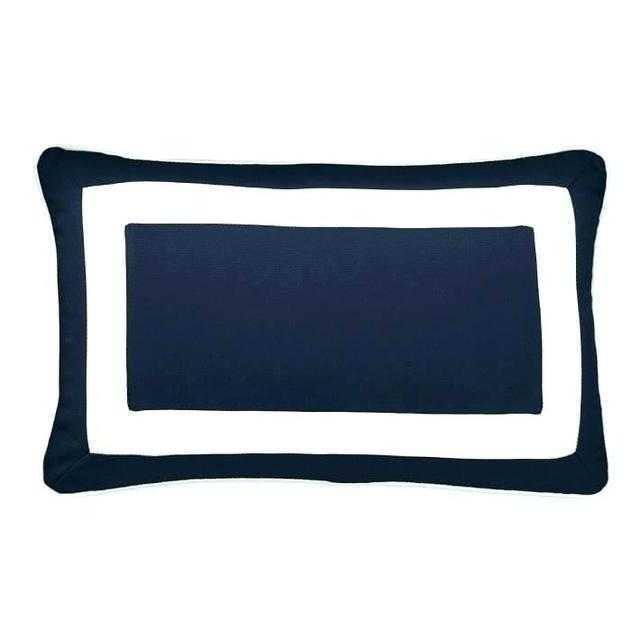pillow: (37, 145, 609, 495)
